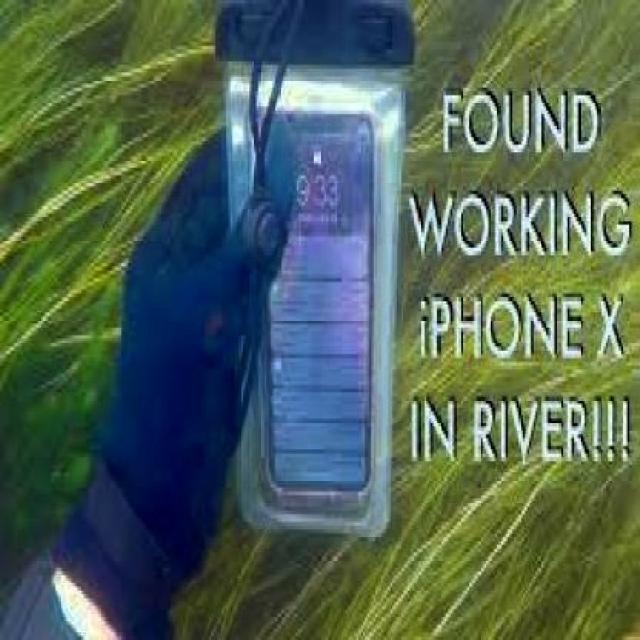cellphone: (254, 111, 380, 503)
